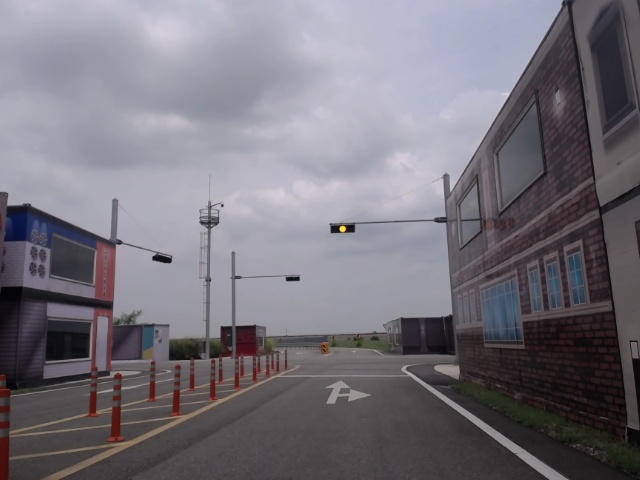orange_3: (330, 224, 355, 233)
